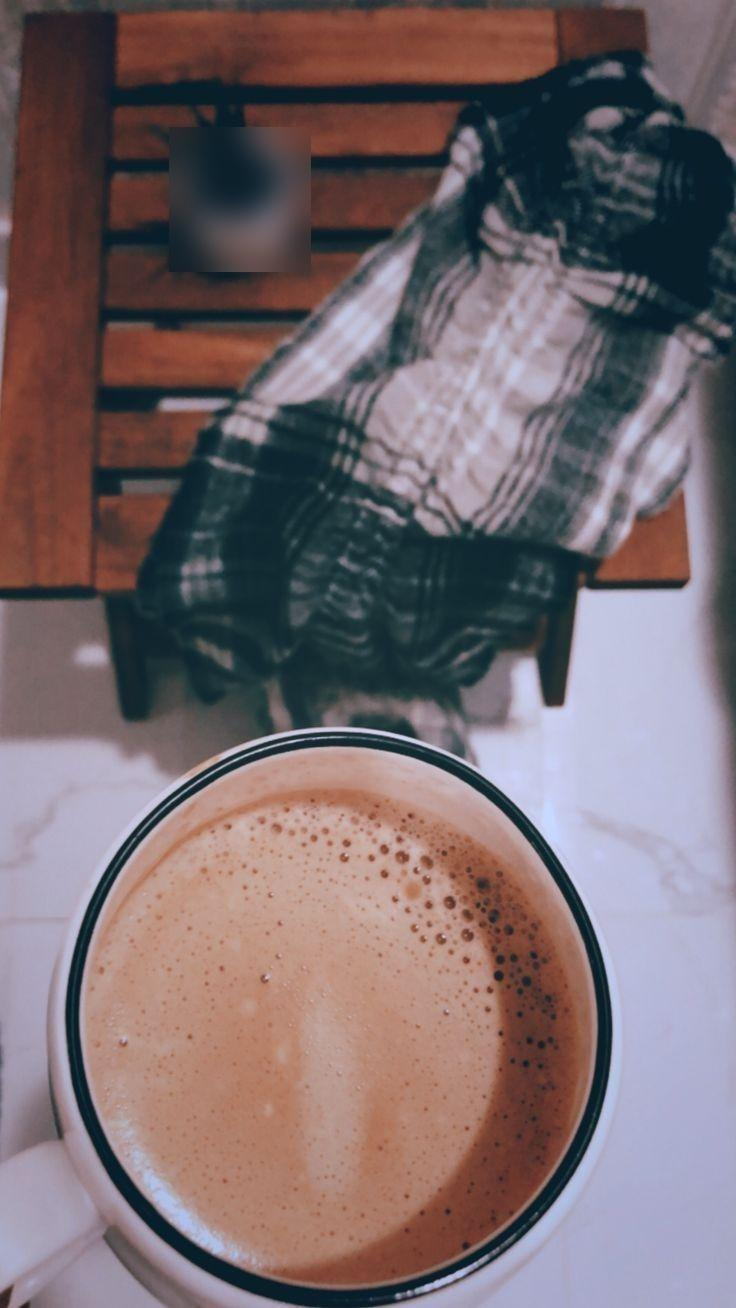cup-handle: (1, 723, 619, 1307)
glass-wine: (306, 250, 307, 256)
